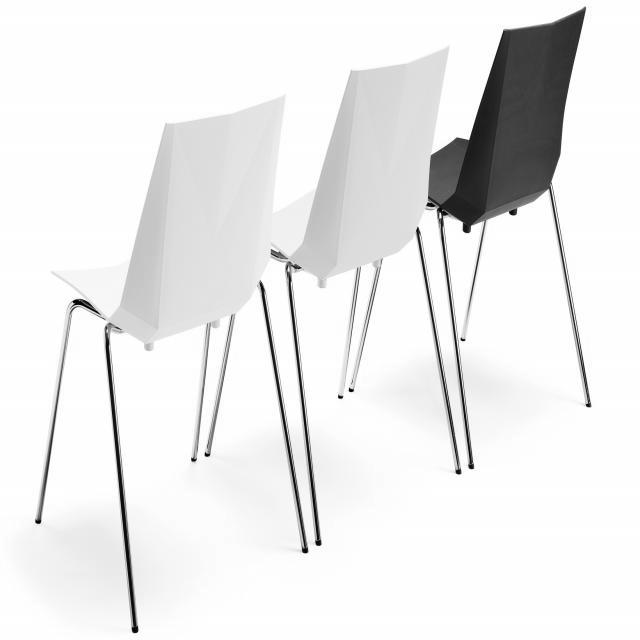chair: (35, 94, 312, 636), (274, 50, 464, 548), (438, 4, 599, 500)
